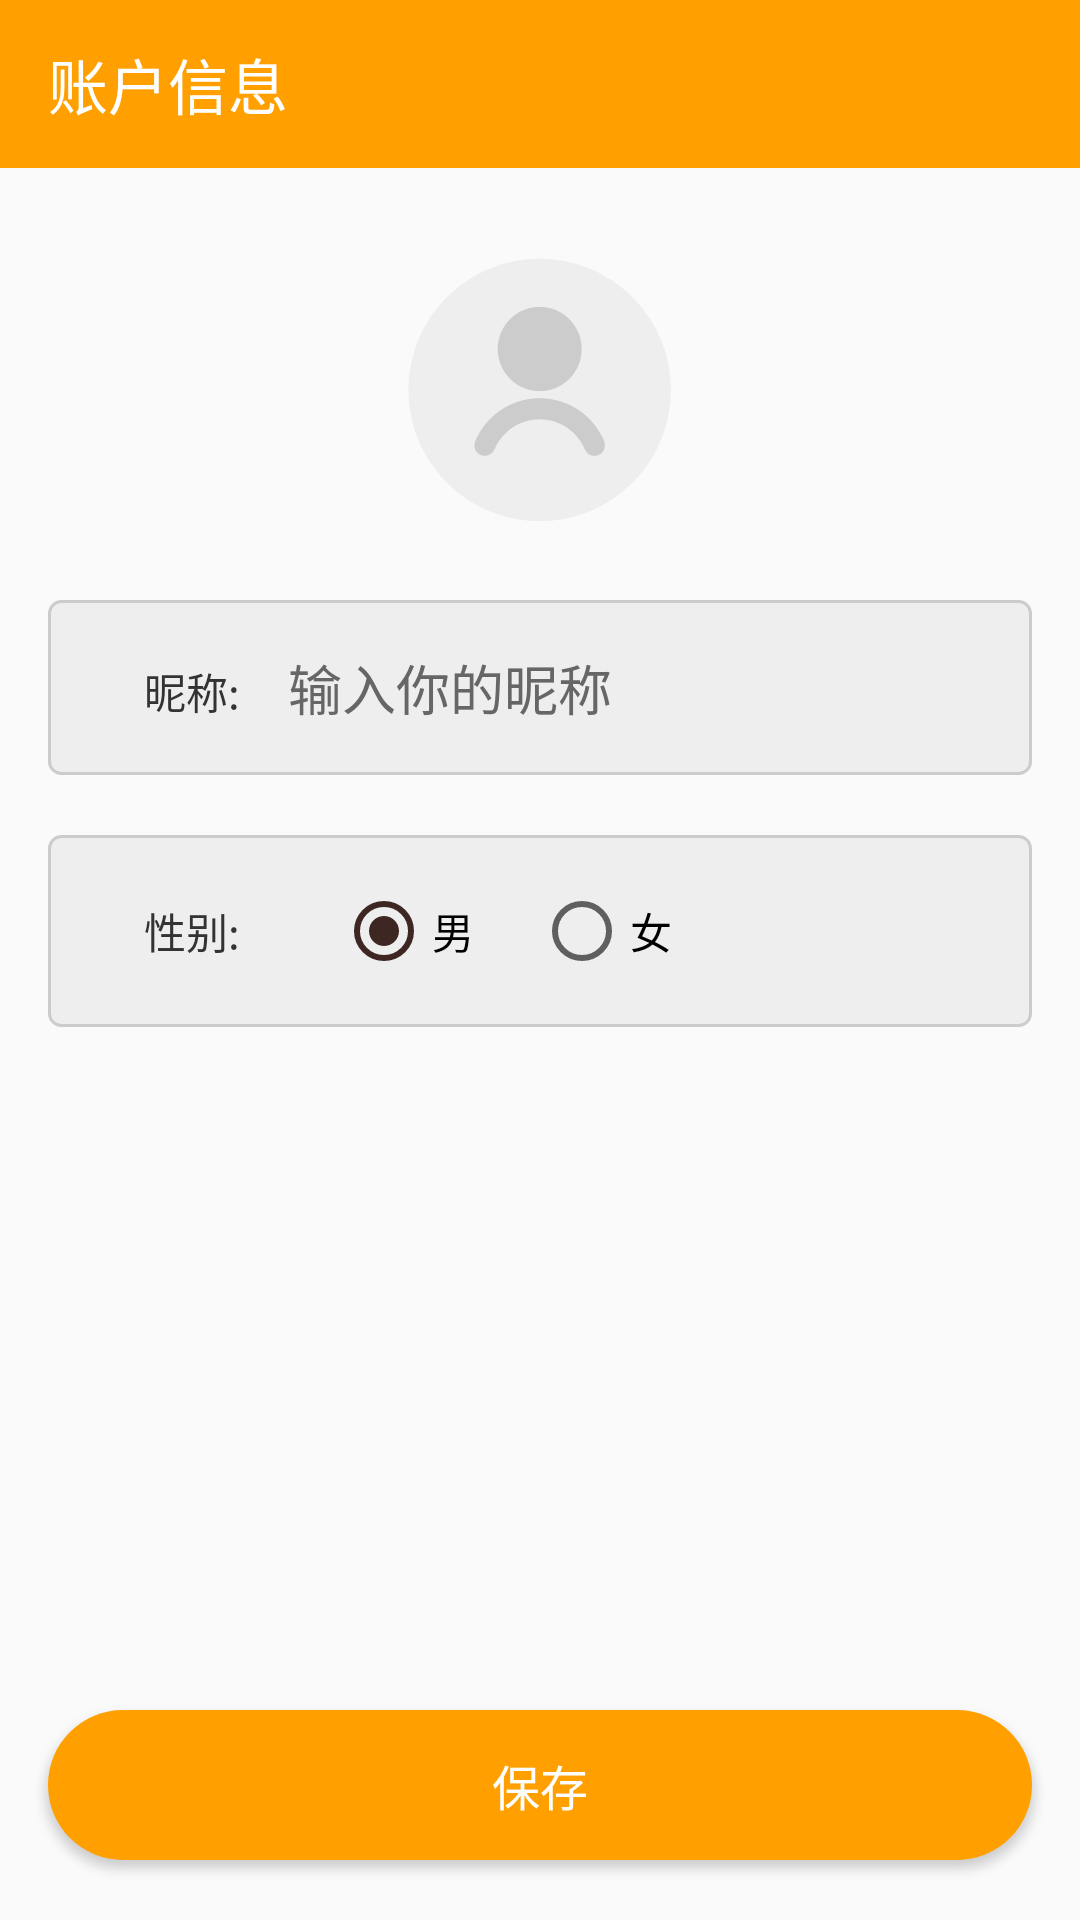

Icon bounding boxes for this 1080x1920 phone screenshot, format (x1, y1, x2, y2):
head: (409, 259, 671, 521)
